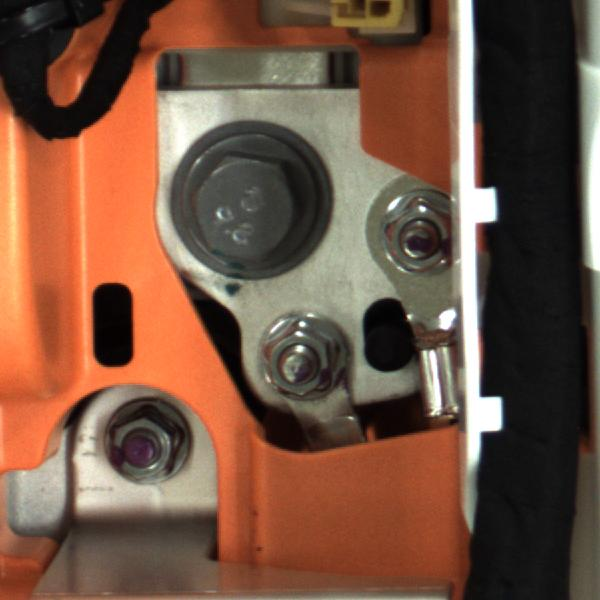nut_b: (163, 119, 330, 278)
screw_s: (109, 395, 205, 491), (251, 315, 351, 405), (370, 189, 451, 276)
